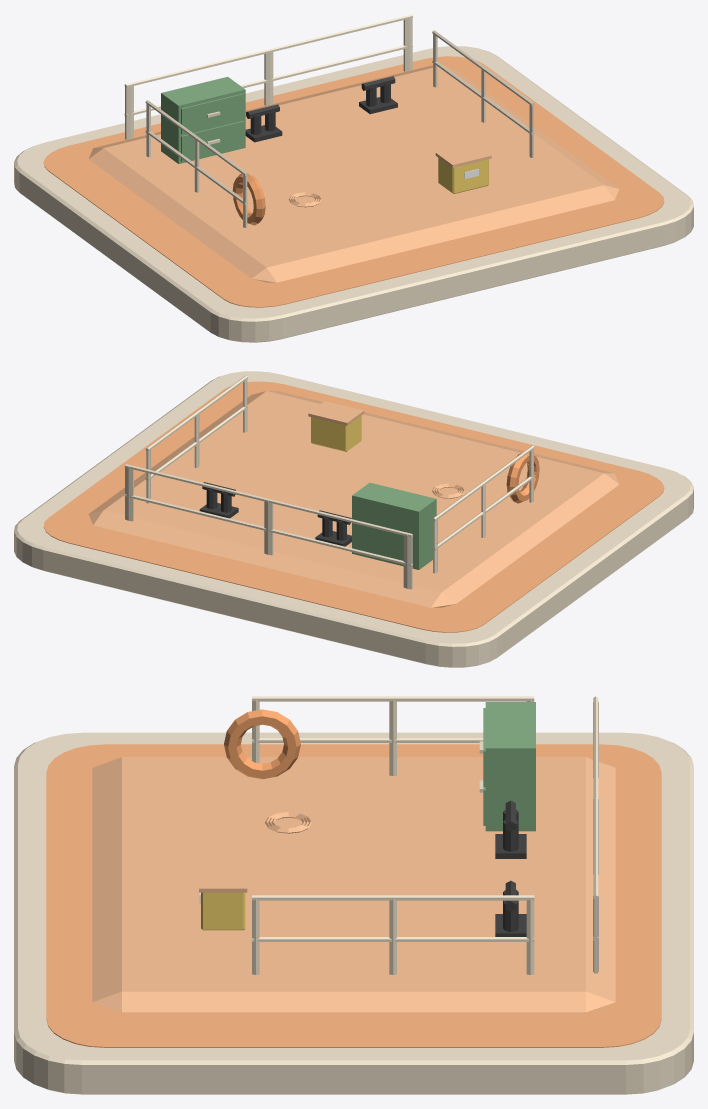
Rendered from room.fbx.
3 renders of one model, top to bottom at view 1: azimuth 30°, elevation 25°; view 2: azimuth 150°, elevation 25°; view 3: azimuth 270°, elevation 25°, orthographic. The views are drawn at different scales.
Parts seen in each view (by area): view 1: Deck, COM-01 Rounded Base Direct, COM-02 Floor Surface, Cabinet, Box, Rail.005, Life ring, Lid, Rail.004, Rail.003, Rail.001, Rail.002 (+3 smaller); view 2: Deck, COM-01 Rounded Base Direct, COM-02 Floor Surface, Cabinet, Box, Rail.005, Rail.004, Life ring, Lid, Rail.001, Rail.003, Rail (+4 smaller); view 3: Deck, COM-01 Rounded Base Direct, COM-02 Floor Surface, Cabinet, Life ring, Box, Rail.001, Rail.003, Lid, Rail.002, Rail.005, Rail (+1 smaller).
Part boxes in pixels (box(x1,y1,x2,y2)): Deck: box(88, 65, 619, 282); COM-01 Rounded Base Direct: box(14, 46, 693, 342); COM-02 Floor Surface: box(43, 56, 664, 307); Cabinet: box(161, 76, 245, 163); Box: box(438, 158, 488, 193); Rail.005: box(124, 14, 412, 87); Life ring: box(232, 173, 265, 225); Lid: box(435, 143, 491, 167); Rail.004: box(124, 44, 412, 116); Rail.003: box(432, 30, 534, 106); Rail.001: box(145, 100, 247, 176); Rail.002: box(432, 60, 534, 135); Deck: box(88, 391, 619, 607); COM-01 Rounded Base Direct: box(14, 371, 693, 667); COM-02 Floor Surface: box(43, 381, 664, 632); Cabinet: box(352, 482, 436, 569); Box: box(311, 415, 361, 451); Rail.005: box(124, 464, 412, 537); Rail.004: box(124, 494, 412, 566); Life ring: box(506, 453, 539, 503); Lid: box(308, 401, 364, 425); Rail.001: box(432, 445, 534, 521); Rail.003: box(145, 375, 247, 451); Rail: box(432, 475, 534, 550); Deck: box(92, 757, 615, 1012); COM-01 Rounded Base Direct: box(14, 732, 693, 1094); COM-02 Floor Surface: box(46, 744, 661, 1047); Cabinet: box(479, 702, 535, 831); Life ring: box(224, 709, 300, 779); Box: box(201, 892, 245, 930); Rail.001: box(252, 696, 534, 701); Rail.003: box(252, 895, 534, 900); Lid: box(199, 861, 247, 892); Rail.002: box(252, 937, 534, 941); Rail.005: box(593, 696, 598, 900); Rail: box(252, 738, 483, 742).
Bounding box in the file's own units: 600 × 118 × 520.
